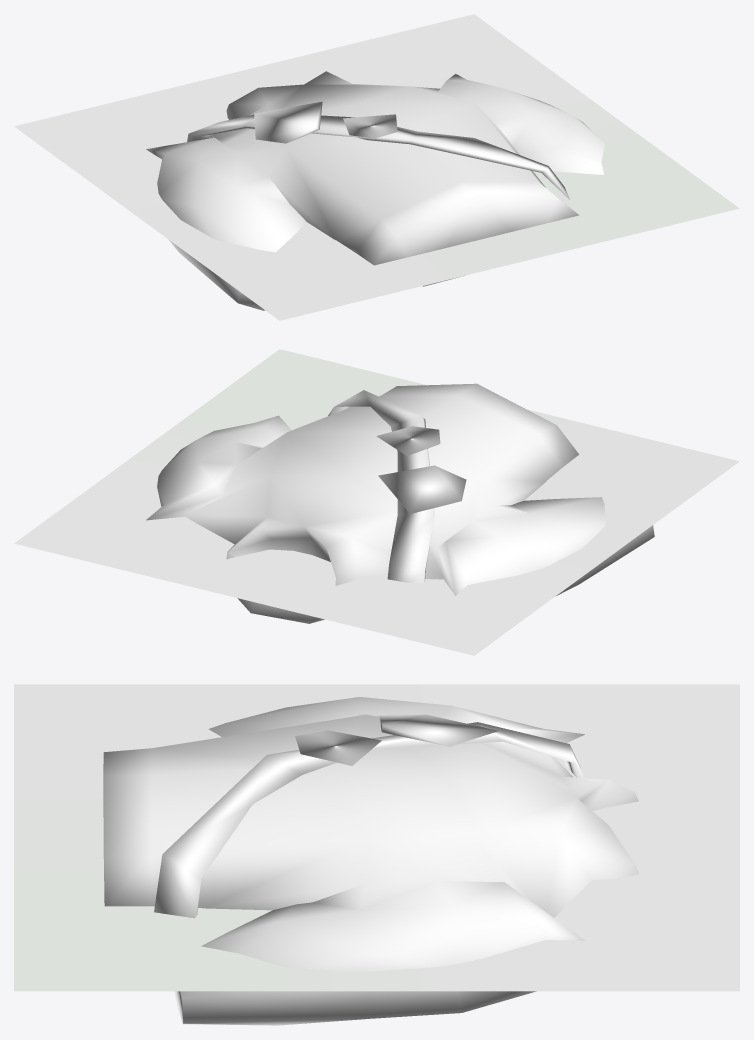
The model's file is ITAR_MIL_C1.glb.
The picture shows the model from 3 angles, top to bottom: view 1: azimuth 30°, elevation 25°; view 2: azimuth 150°, elevation 25°; view 3: azimuth 270°, elevation 25°; orthographic projection. The views are drawn at different scales.
Visible parts, largest first — view 1: Mesh; view 2: Mesh; view 3: Mesh.
Boxes of the visible parts, box(x1,y1,x2,y2) form: Mesh: box(14, 14, 739, 320); Mesh: box(14, 349, 739, 655); Mesh: box(14, 684, 739, 1025).
Bounding box in the file's own units: 0.7395 × 0.1822 × 0.7395.
Materials: 3 (1 with a texture image).
